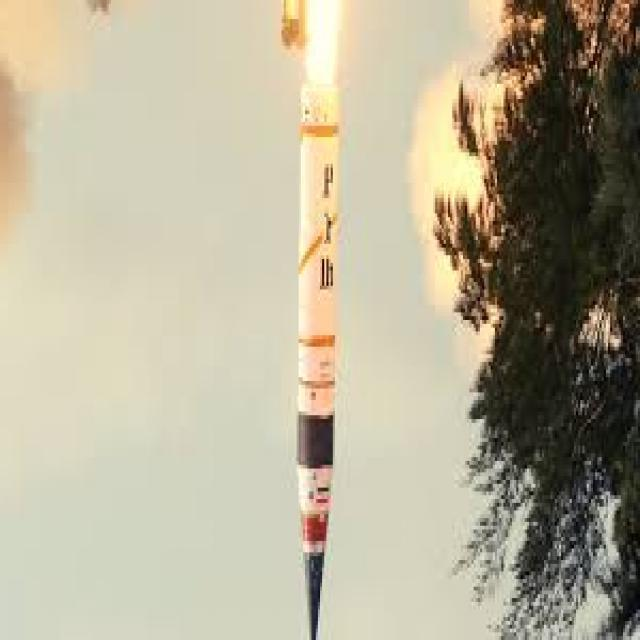missile: (285, 65, 341, 640)
